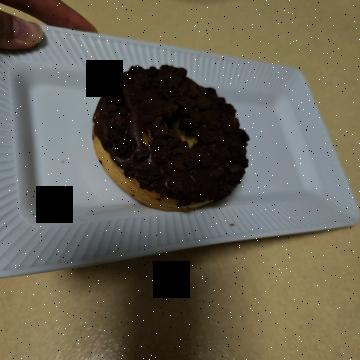doughnut: (46, 101, 228, 273)
